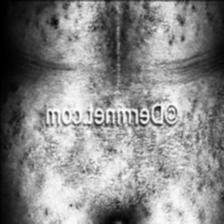Unclassified: (6, 130, 190, 212), (19, 0, 206, 65), (0, 72, 41, 167), (185, 85, 224, 180)
